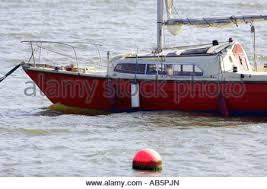buoy: (132, 149, 163, 172)
